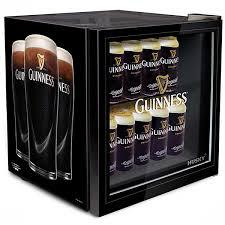beer: (108, 39, 186, 175)
